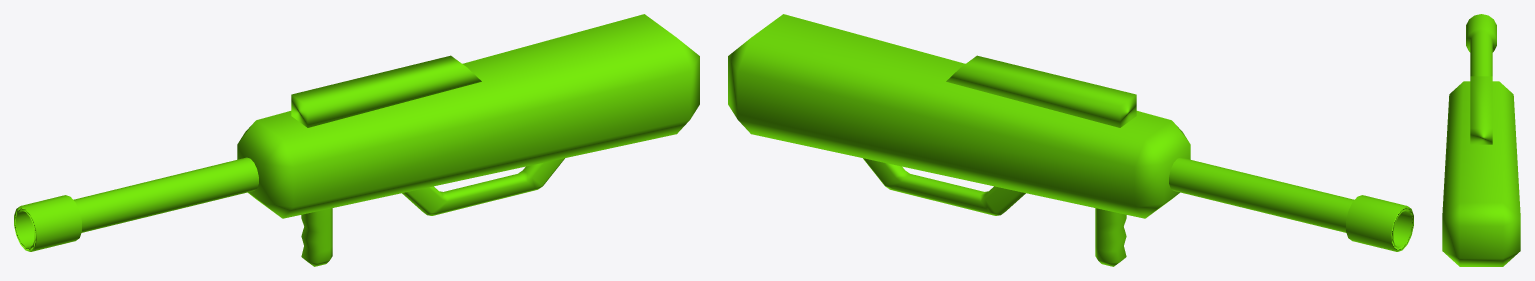
File: Mesh_SprayGun.fbx
3 views of the same model, side by side, from view 1: azimuth 30°, elevation 25°; view 2: azimuth 150°, elevation 25°; view 3: azimuth 270°, elevation 25° (orthographic). The views are drawn at different scales.
Parts seen in each view (by area): view 1: MainGun_Mesh, GunBarrel_Mesh, TopPartGun_Mesh, GunHandle_Mesh, GunHandle_mesh; view 2: MainGun_Mesh, GunBarrel_Mesh, TopPartGun_Mesh, GunHandle_Mesh, GunHandle_mesh; view 3: MainGun_Mesh, GunBarrel_Mesh, TopPartGun_Mesh.
Boxes of the visible parts, bbox=[...] form: MainGun_Mesh: bbox=[237, 14, 699, 218]; GunBarrel_Mesh: bbox=[14, 157, 258, 251]; TopPartGun_Mesh: bbox=[291, 55, 481, 127]; GunHandle_Mesh: bbox=[402, 158, 564, 215]; GunHandle_mesh: bbox=[301, 208, 332, 266]; MainGun_Mesh: bbox=[728, 14, 1190, 218]; GunBarrel_Mesh: bbox=[1169, 157, 1413, 251]; TopPartGun_Mesh: bbox=[946, 55, 1136, 127]; GunHandle_Mesh: bbox=[863, 158, 1025, 215]; GunHandle_mesh: bbox=[1095, 208, 1126, 266]; MainGun_Mesh: bbox=[1442, 81, 1520, 266]; GunBarrel_Mesh: bbox=[1466, 14, 1496, 76]; TopPartGun_Mesh: bbox=[1470, 76, 1492, 144].
Size of the model in its own units: 106 by 25.67 by 16.48.
